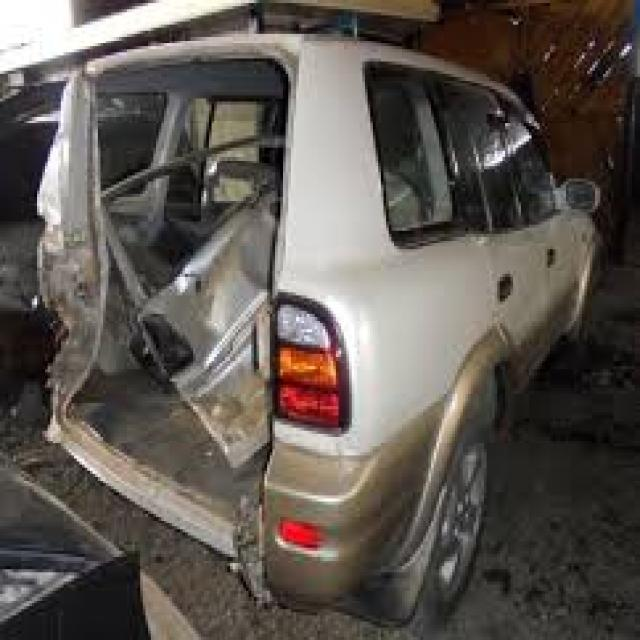moderate: (45, 0, 310, 640)
